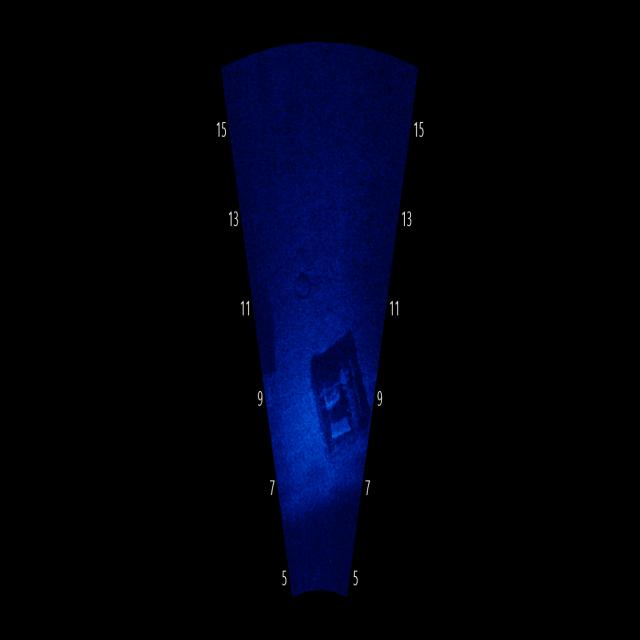square: (301, 321, 375, 458), (250, 275, 286, 386)
